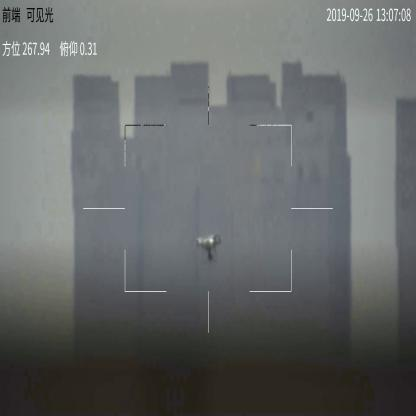uav: (188, 234, 224, 263)
